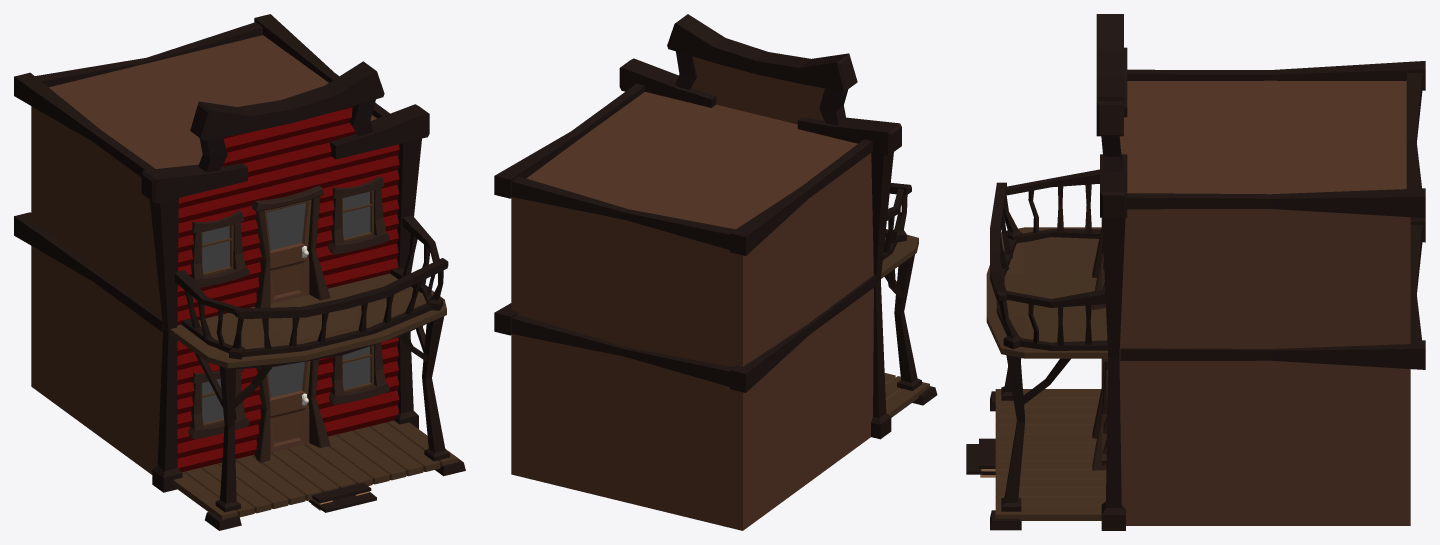
Rendered from Building01.fbx.
The picture shows the model from 3 angles, left to right: view 1: azimuth 30°, elevation 25°; view 2: azimuth 150°, elevation 25°; view 3: azimuth 270°, elevation 25°; orthographic projection. The views are drawn at different scales.
Parts seen in each view (by area): view 1: Cube.047; view 2: Cube.047; view 3: Cube.047.
Part boxes in pixels (<box>): Cube.047: <box>14,14,465,530</box>; Cube.047: <box>494,14,937,530</box>; Cube.047: <box>966,14,1425,530</box>.
Bounding box in the file's own units: 564 × 727 × 743.
